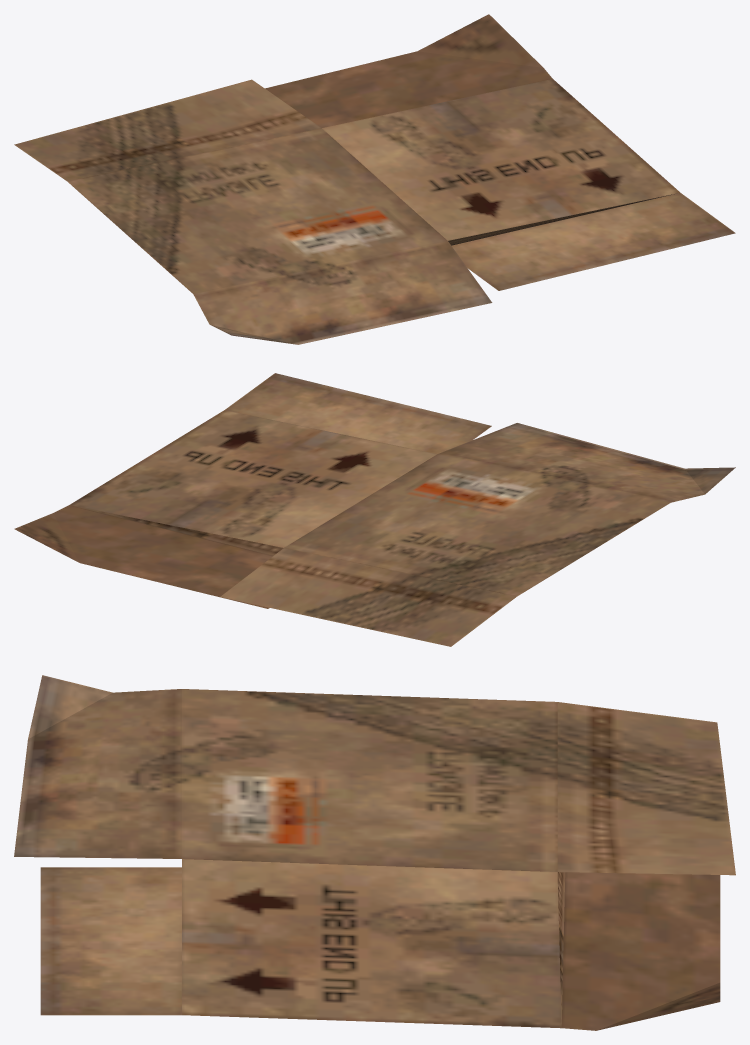
File: flat_box.fbx
3 renders of one model, top to bottom at view 1: azimuth 30°, elevation 25°; view 2: azimuth 150°, elevation 25°; view 3: azimuth 270°, elevation 25°, orthographic. The views are drawn at different scales.
Visible parts, largest first — view 1: mesh_0; view 2: mesh_0; view 3: mesh_0.
Boxes of the visible parts, x1=… form: mesh_0: x1=14, y1=14, x2=735, y2=344; mesh_0: x1=14, y1=373, x2=735, y2=646; mesh_0: x1=14, y1=675, x2=735, y2=1030.
Bounding box in the file's own units: 104 × 3.81 × 96.1.
1 material, 1 textured.
